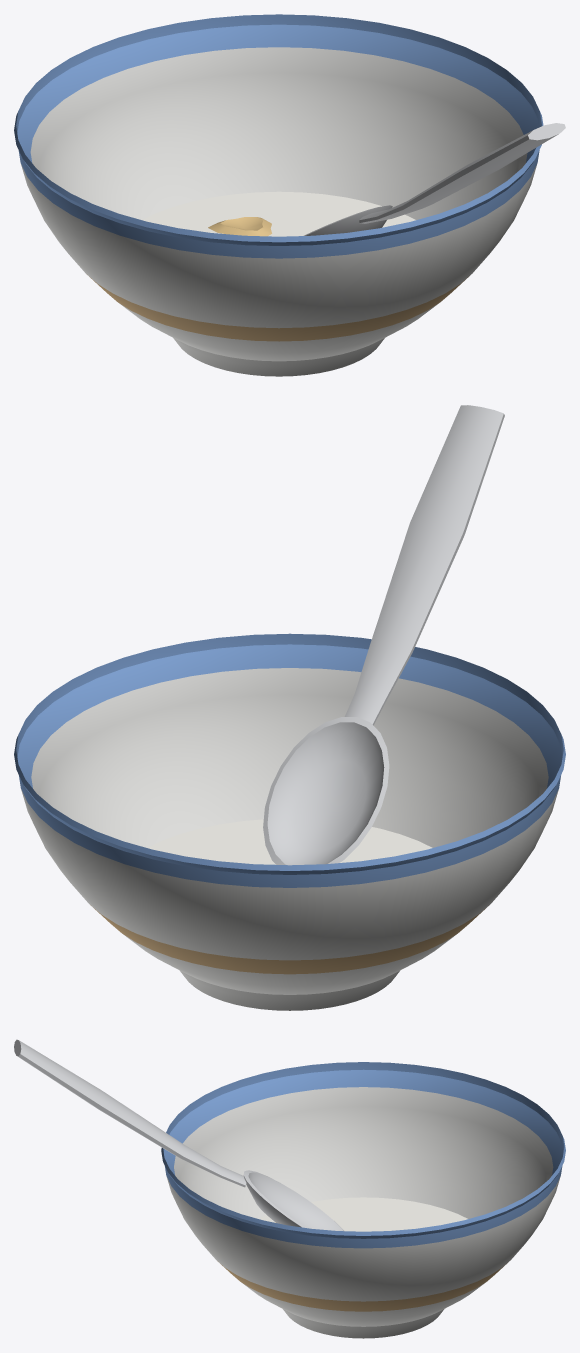
Rendered from kitchen_bowl_cereal.fbx.
3 renders of one model, top to bottom at view 1: azimuth 30°, elevation 25°; view 2: azimuth 150°, elevation 25°; view 3: azimuth 270°, elevation 25°, orthographic. The views are drawn at different scales.
Parts seen in each view (by area): view 1: kitchen_bowl_cereal; view 2: kitchen_bowl_cereal; view 3: kitchen_bowl_cereal.
Part boxes in pixels (box(x1,y1,x2,y2)): kitchen_bowl_cereal: box(14, 14, 565, 376); kitchen_bowl_cereal: box(14, 405, 565, 1010); kitchen_bowl_cereal: box(14, 1039, 565, 1338).
Size of the model in its own units: 0.1512 by 0.1137 by 0.2062.
